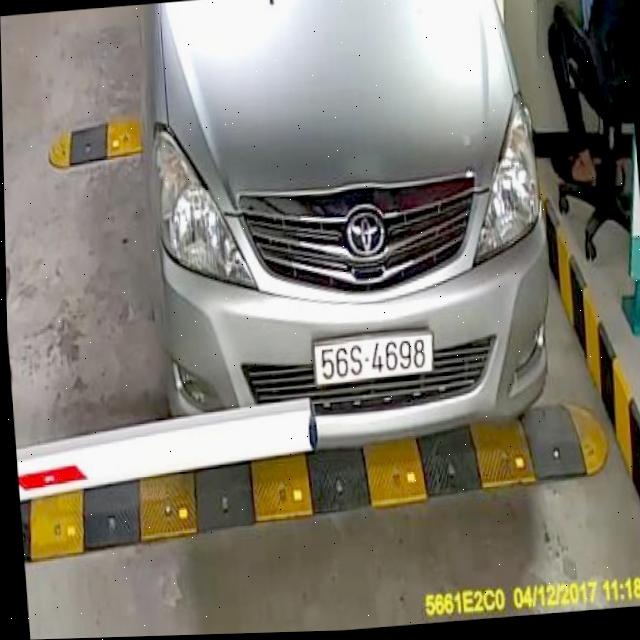car: (127, 0, 567, 467)
plate: (303, 323, 439, 392)
